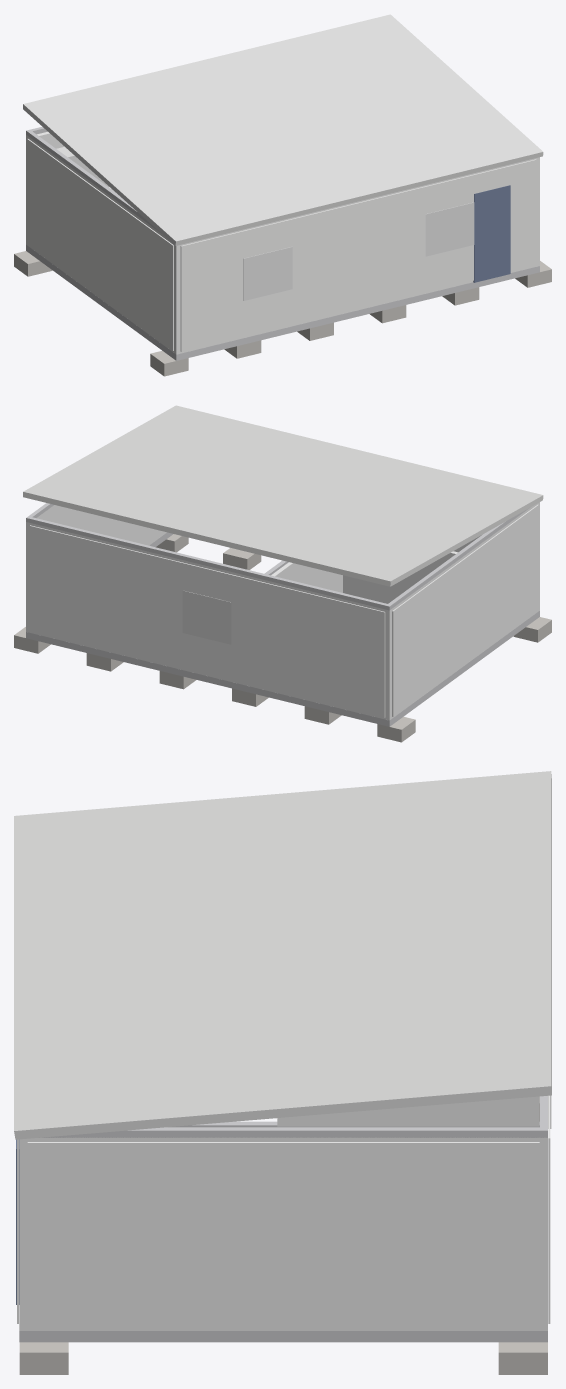
File: Studio-30-SlopingRoof+FullSolar-LOD3.glb
3 views of the same model, one above another, from view 1: azimuth 30°, elevation 25°; view 2: azimuth 150°, elevation 25°; view 3: azimuth 270°, elevation 25° (orthographic). The views are drawn at different scales.
Visible parts, largest first — view 1: RoofSlopingUpgrade, ExteriorPanelsStandard, WindowsStandard, BaseFrame, FoundationBlocks, ExteriorShell, EntryDoor, TopFrame; view 2: ExteriorPanelsStandard, RoofSlopingUpgrade, ExteriorShell, FoundationBlocks, BaseFrame, TopFrame, BedroomWalls, WindowsStandard; view 3: RoofSlopingUpgrade, ExteriorPanelsStandard, BaseFrame, ExteriorShell, BedroomWalls, TopFrame, FoundationBlocks.
Part boxes in pixels (left/top/right/bottom): RoofSlopingUpgrade: left=23, top=14, right=543, bottom=245; ExteriorPanelsStandard: left=27, top=139, right=536, bottom=351; WindowsStandard: left=243, top=202, right=474, bottom=300; BaseFrame: left=26, top=245, right=539, bottom=360; FoundationBlocks: left=14, top=251, right=551, bottom=376; ExteriorShell: left=26, top=133, right=539, bottom=354; EntryDoor: left=473, top=185, right=510, bottom=282; TopFrame: left=26, top=126, right=161, bottom=233; ExteriorPanelsStandard: left=29, top=504, right=538, bottom=717; RoofSlopingUpgrade: left=23, top=405, right=543, bottom=586; ExteriorShell: left=26, top=502, right=539, bottom=720; FoundationBlocks: left=14, top=534, right=551, bottom=742; BaseFrame: left=26, top=532, right=539, bottom=726; TopFrame: left=26, top=503, right=529, bottom=610; BedroomWalls: left=271, top=551, right=457, bottom=603; WindowsStandard: left=182, top=590, right=231, bottom=644; RoofSlopingUpgrade: left=14, top=771, right=551, bottom=1139; ExteriorPanelsStandard: left=17, top=1095, right=550, bottom=1328; BaseFrame: left=19, top=1121, right=547, bottom=1342; ExteriorShell: left=19, top=1137, right=547, bottom=1330; BedroomWalls: left=277, top=1096, right=539, bottom=1126; TopFrame: left=39, top=1096, right=547, bottom=1137; FoundationBlocks: left=19, top=1096, right=547, bottom=1374.
Bounding box in the file's own units: 9.6 × 3.77 × 6.56.
